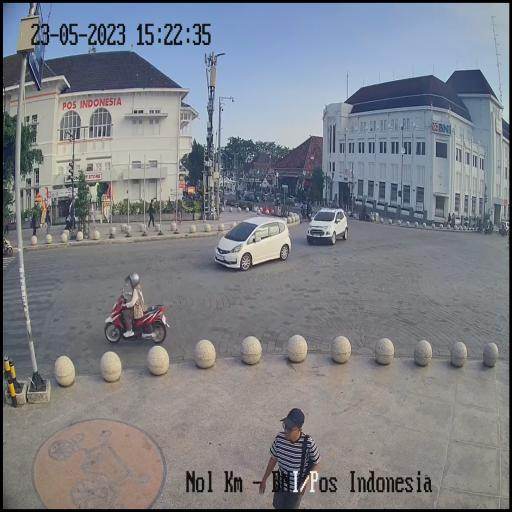mobil: (215, 217, 289, 274), (306, 207, 349, 248)
motor: (105, 288, 166, 350)
